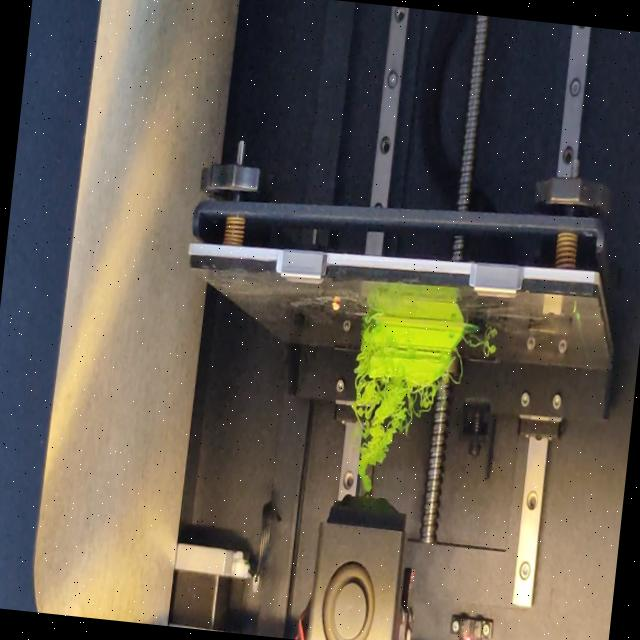spaghetti: (341, 371, 446, 496), (352, 311, 372, 374), (460, 330, 499, 360), (447, 348, 465, 390)
